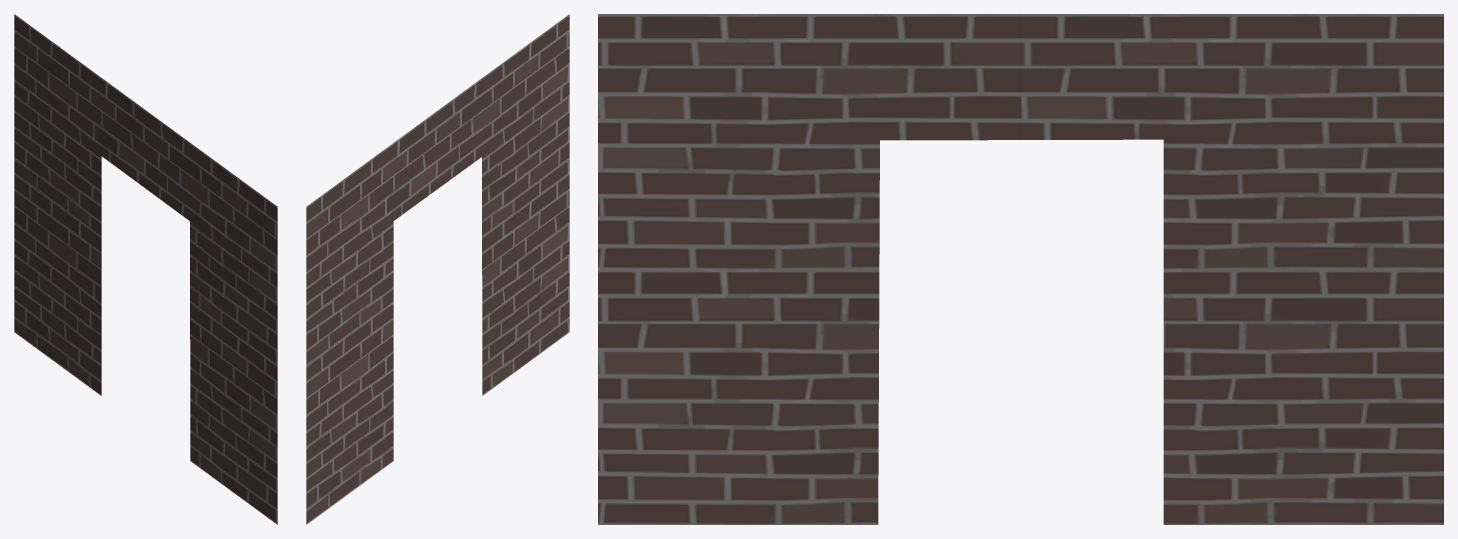
File: Bock_E1(2).fbx
3 renders of one model, left to right at view 1: azimuth 30°, elevation 25°; view 2: azimuth 150°, elevation 25°; view 3: azimuth 270°, elevation 25°, orthographic. The views are drawn at different scales.
Visible parts, largest first — view 1: Bock_E1; view 2: Bock_E1; view 3: Bock_E1.
Boxes of the visible parts, left/top/right/bottom form: Bock_E1: left=14, top=14, right=277, bottom=524; Bock_E1: left=306, top=14, right=569, bottom=524; Bock_E1: left=598, top=14, right=1443, bottom=524.
Size of the model in its own units: 0 by 400 by 600.
